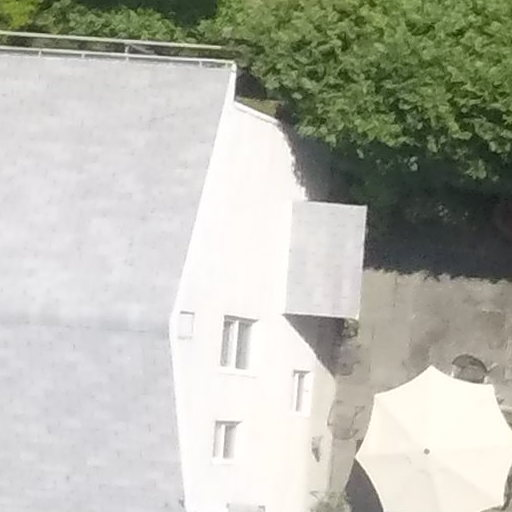umbrella: (357, 367, 512, 509)
